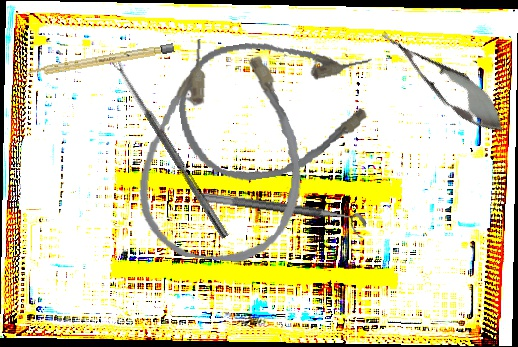Cannula: (132, 34, 316, 268), (170, 24, 388, 190)
Fixation Ring: (199, 191, 368, 239)
Micro Scissor: (370, 18, 516, 144)
Scalpel Handle: (27, 43, 175, 78)
Surgical Spoon: (109, 53, 230, 240)
